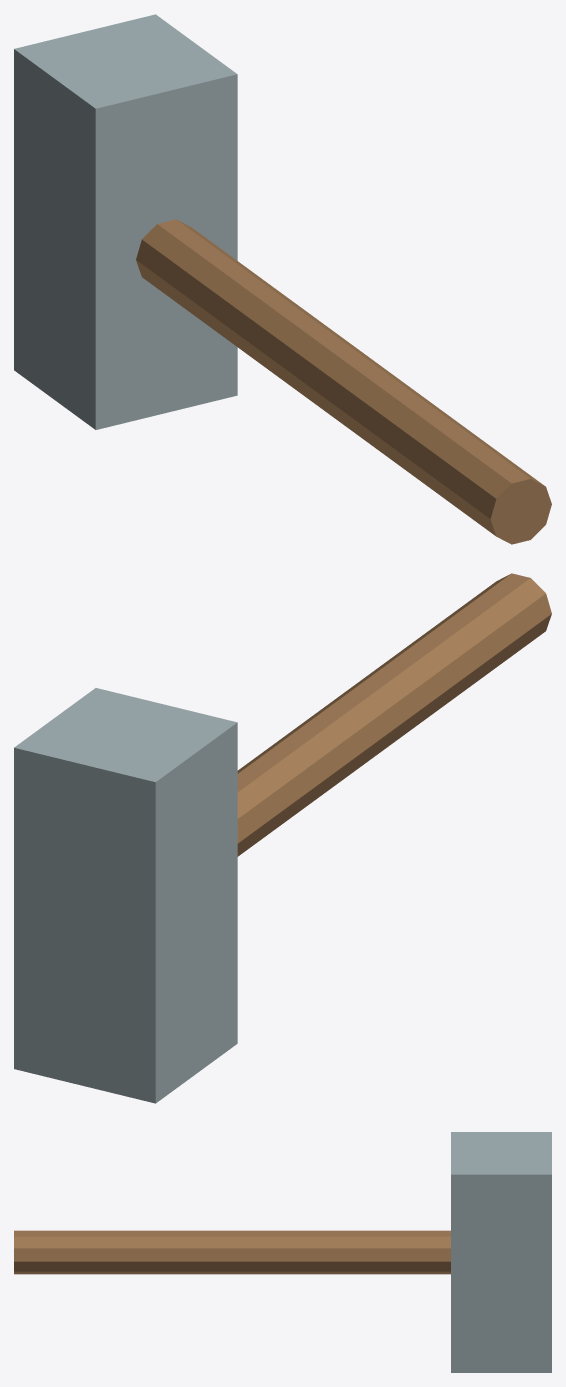
The model's file is Tool_Hammer.fbx.
The picture shows the model from 3 angles, top to bottom: view 1: azimuth 30°, elevation 25°; view 2: azimuth 150°, elevation 25°; view 3: azimuth 270°, elevation 25°; orthographic projection. The views are drawn at different scales.
Visible parts, largest first — view 1: Tool_Hammer; view 2: Tool_Hammer; view 3: Tool_Hammer.
Part boxes in pixels (x1,y1,x2,y2): Tool_Hammer: [14, 14, 551, 544]; Tool_Hammer: [14, 573, 551, 1103]; Tool_Hammer: [14, 1132, 551, 1372].
Size of the model in its own units: 0.12 by 0.26 by 0.64.
